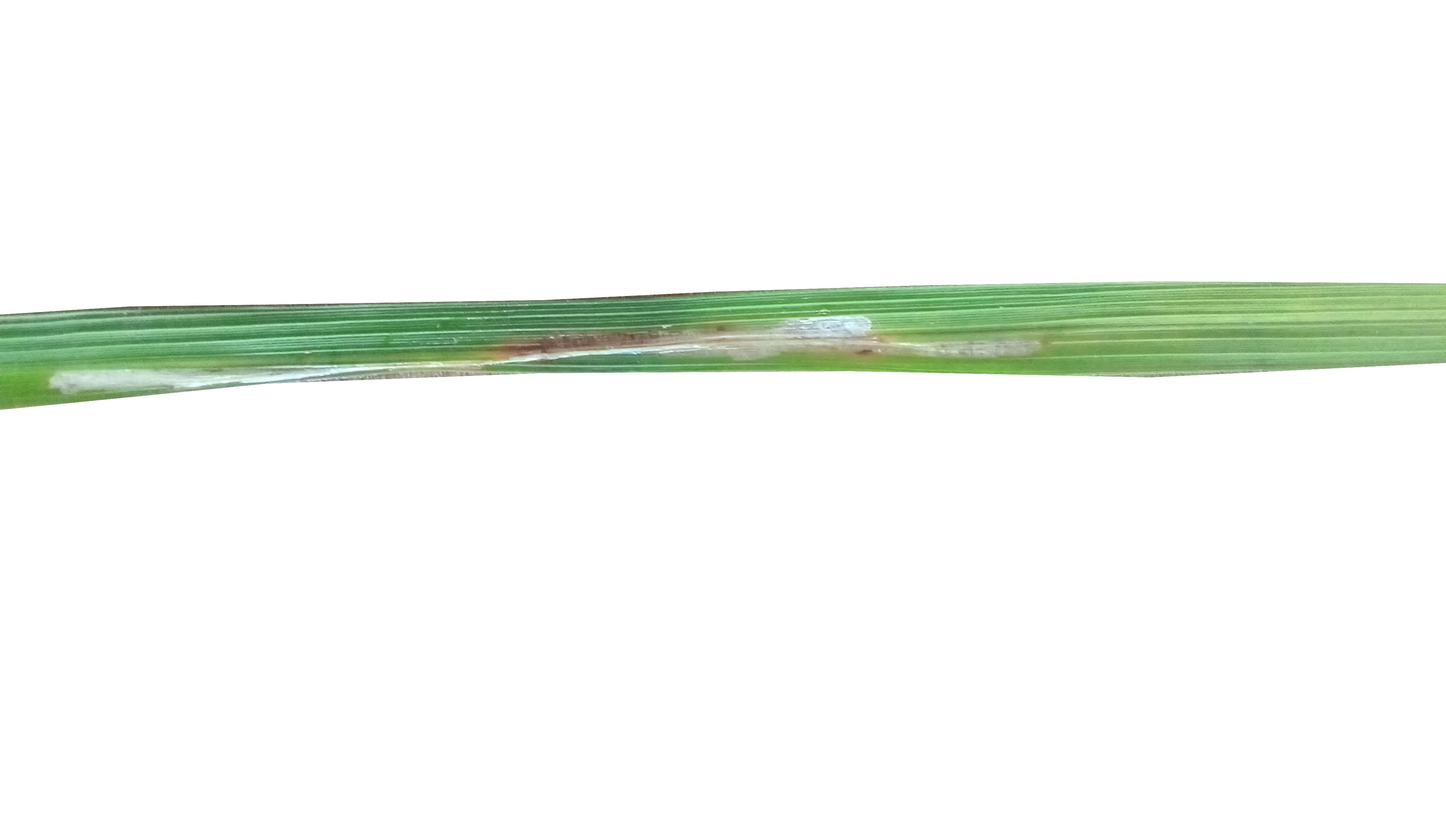Blight: (476, 337, 1043, 356), (49, 360, 247, 389)
